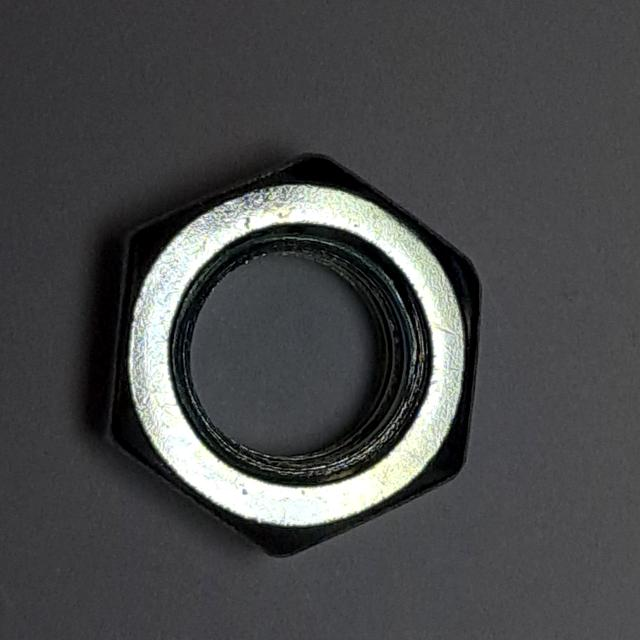Excellent: (87, 136, 491, 570)
